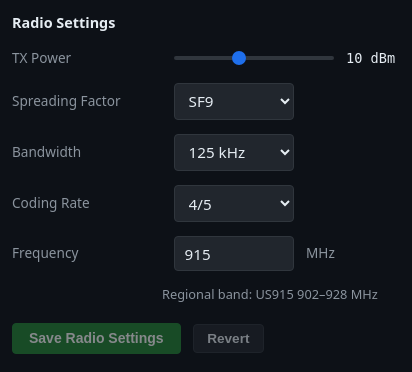
Test case: RadioForm dirty state and revert behavior › shows unsaved indicator and risky-field change markers when edited
This screenshot has width=412, height=372.
Expected: the text "unsaved changes" is not shown
Expected: the button "Save Radio Settings" is disabled, 12,323 -> 181,354
Select "SF10" in the dropdown labelled "Spreading Factor": x=234, y=101 174,83 -> 294,120
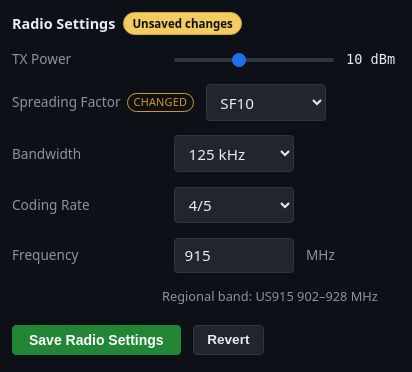
Select "250 kHz" in the dropdown labelled "Bandwidth": x=234, y=154 174,135 -> 294,172
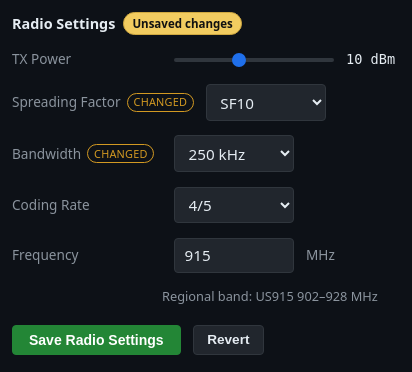
Replace the text in the number field named "frequency in mhz" with "916.1": x=234, y=255 174,238 -> 294,273
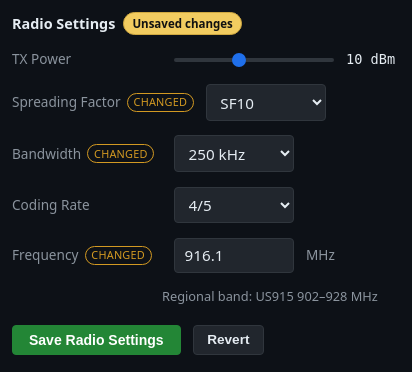
Expected: the text "Unsaved changes" is shown, 123,12 -> 242,35
Expected: the button "Save Radio Settings" is enabled, 12,324 -> 181,355
Expected: the text "changed" is shown 3 times, 127,93 -> 194,112; 88,144 -> 154,163; 85,246 -> 152,265
